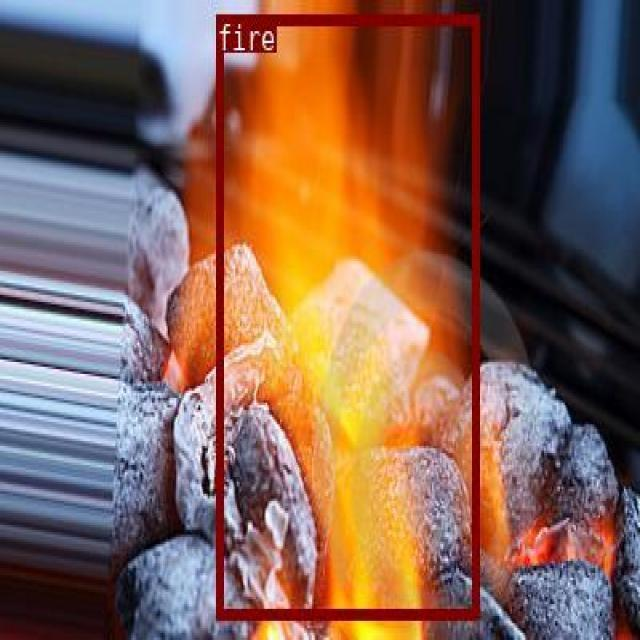fire: (216, 14, 477, 618)
